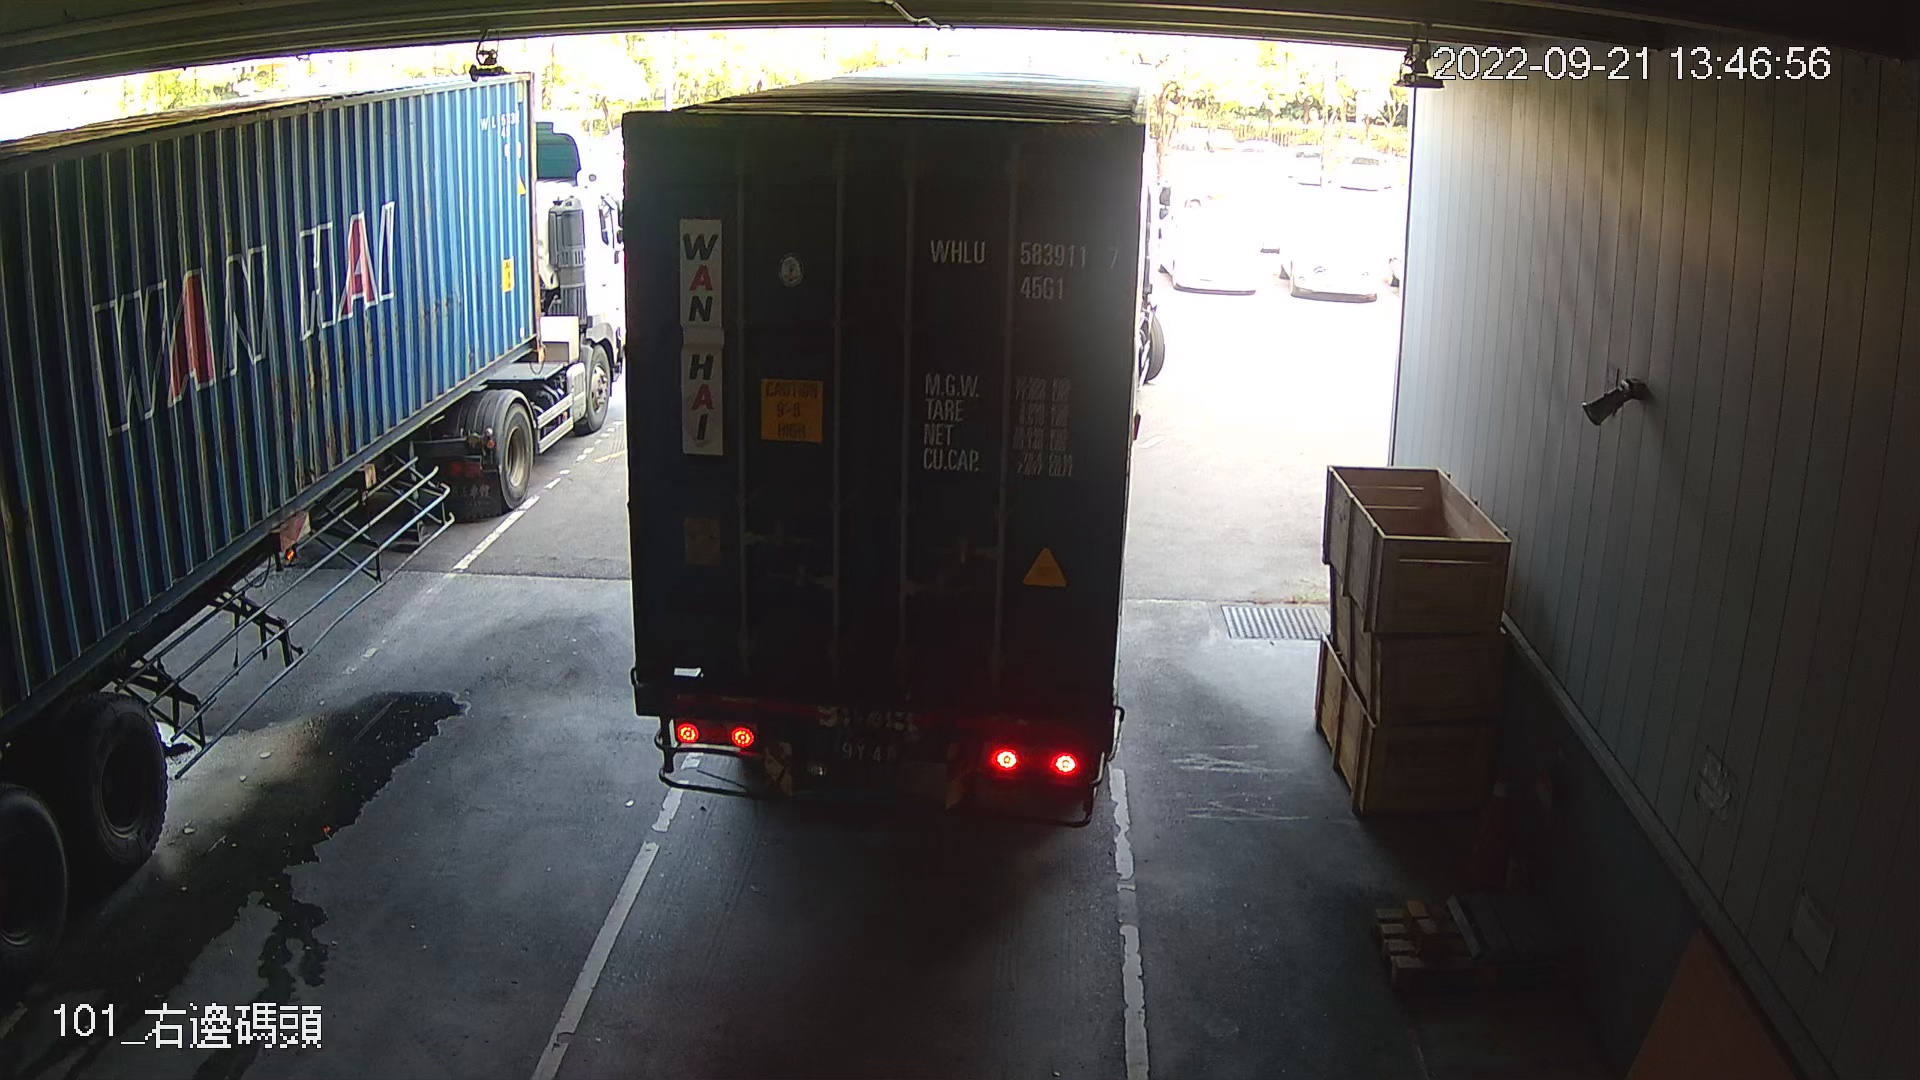container: (916, 227, 1131, 309)
